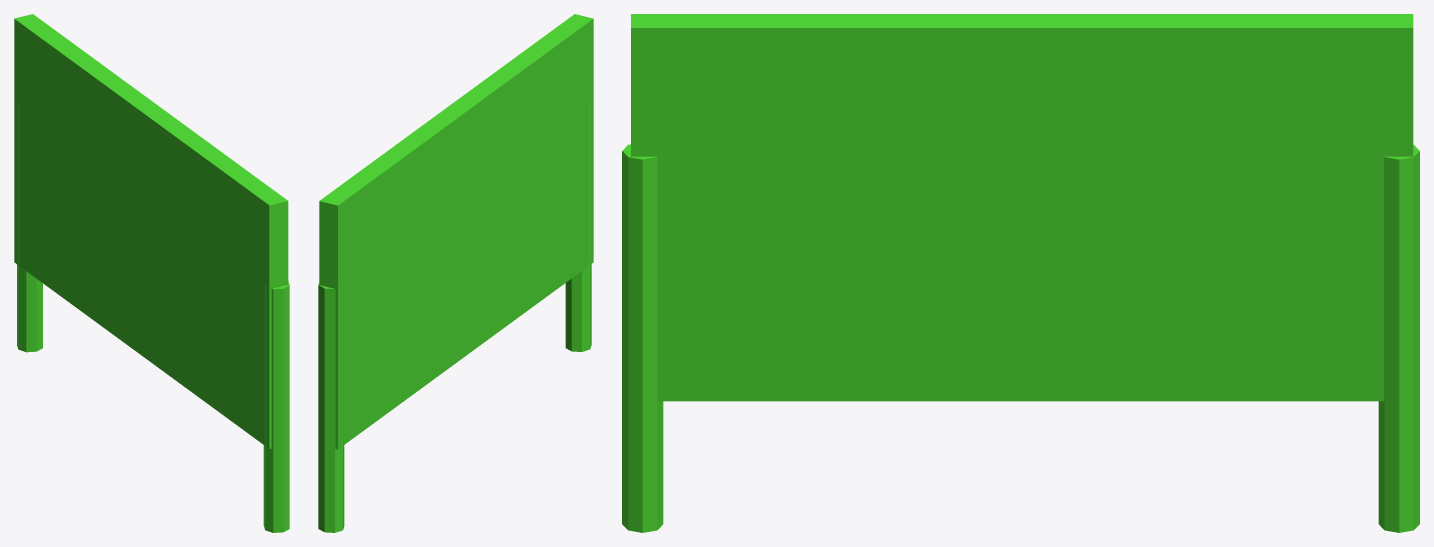
The model's file is cylinder.001_lev2_lev3.glb.
3 views of the same model, side by side, from view 1: azimuth 30°, elevation 25°; view 2: azimuth 150°, elevation 25°; view 3: azimuth 270°, elevation 25° (orthographic). The views are drawn at different scales.
Visible parts, largest first — view 1: cylinder.001_lev2_lev3; view 2: cylinder.001_lev2_lev3; view 3: cylinder.001_lev2_lev3.
Part boxes in pixels (x1,y1,x2,y2): cylinder.001_lev2_lev3: [14, 14, 289, 532]; cylinder.001_lev2_lev3: [318, 14, 593, 532]; cylinder.001_lev2_lev3: [622, 14, 1419, 532].
Bounding box in the file's own units: 0.2 × 2.69 × 3.87.
